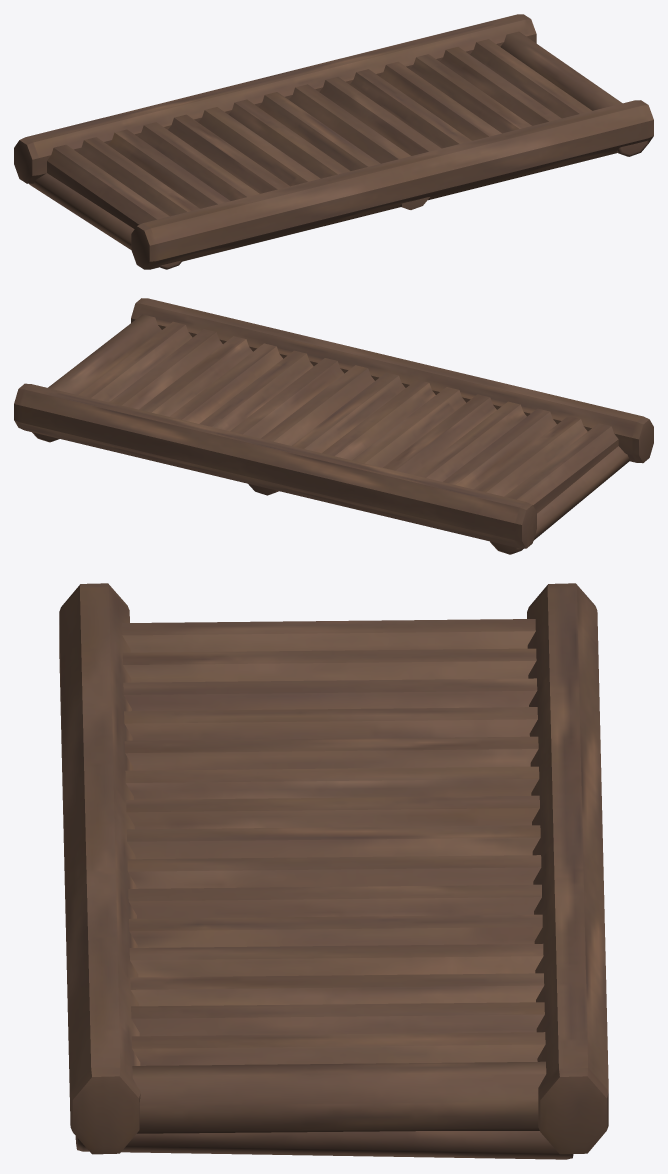
The model's file is plataforma.fbx.
3 views of the same model, one above another, from view 1: azimuth 30°, elevation 25°; view 2: azimuth 150°, elevation 25°; view 3: azimuth 270°, elevation 25° (orthographic). The views are drawn at different scales.
Visible parts, largest first — view 1: sm_plataforma; view 2: sm_plataforma; view 3: sm_plataforma.
Boxes of the visible parts, bbox=[...] form: sm_plataforma: bbox=[14, 14, 653, 269]; sm_plataforma: bbox=[14, 298, 653, 554]; sm_plataforma: bbox=[59, 583, 608, 1159].
Bounding box in the file's own units: 335 × 32.37 × 157.
